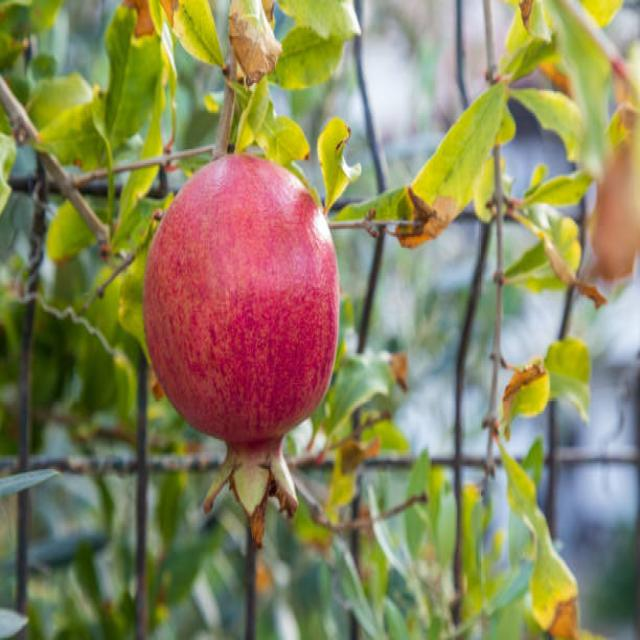Ripe: (142, 148, 339, 514)
